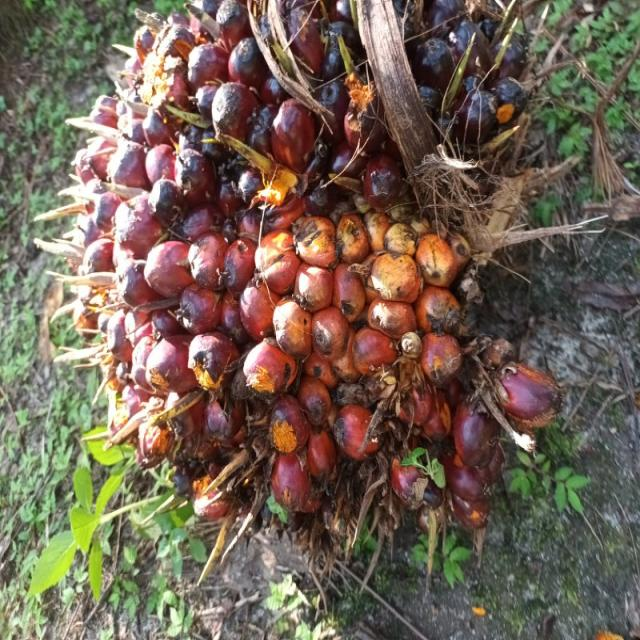fraksi 1: (31, 15, 631, 552)
